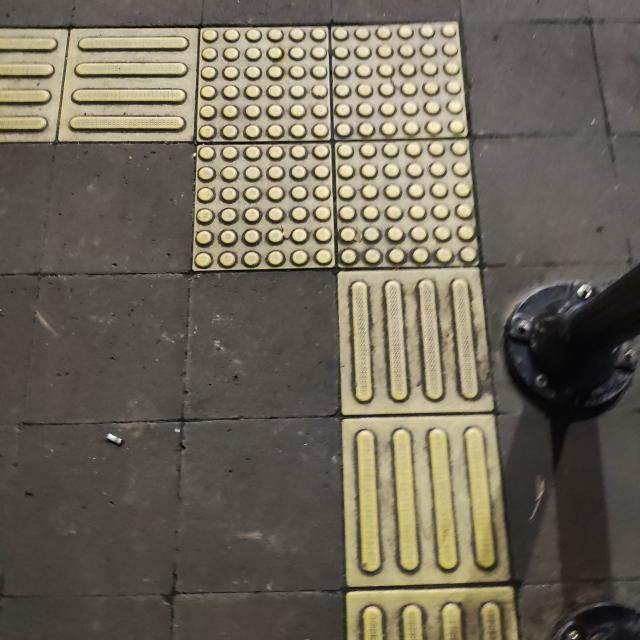kiri: (17, 0, 515, 383)
